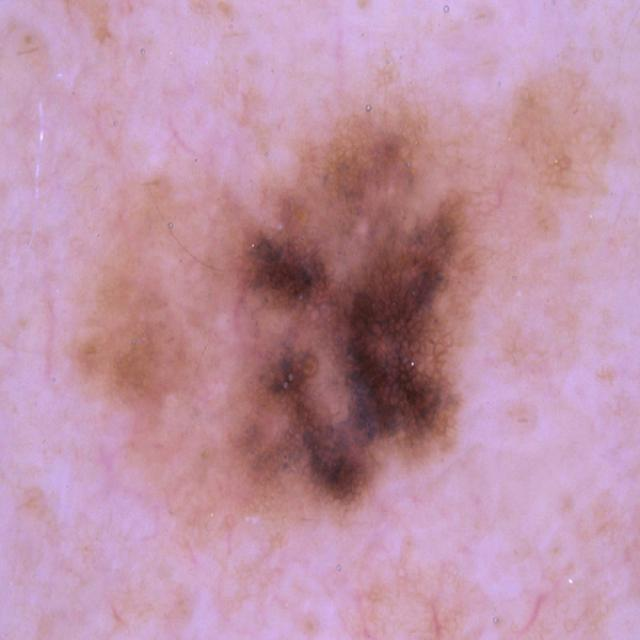NV: (65, 63, 617, 536)
